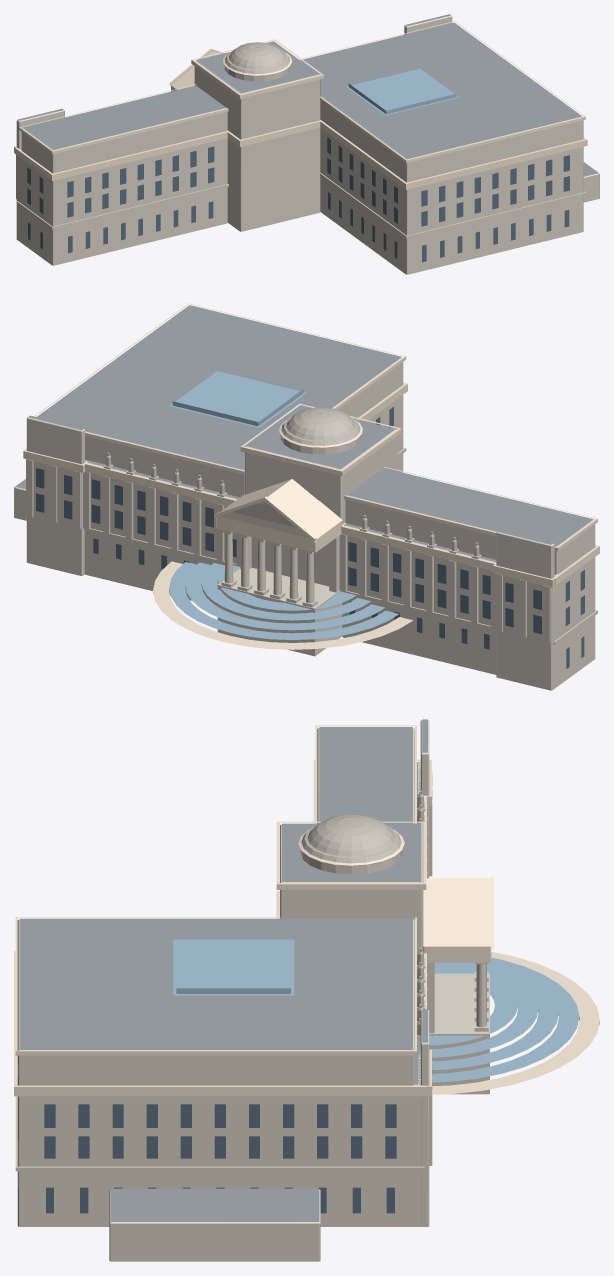
The model's file is nyc-brooklyn-museum.glb.
The picture shows the model from 3 angles, top to bottom: view 1: azimuth 30°, elevation 25°; view 2: azimuth 150°, elevation 25°; view 3: azimuth 270°, elevation 25°; orthographic projection. The views are drawn at different scales.
Visible parts, largest first — view 1: Brooklyn Museum; view 2: Brooklyn Museum; view 3: Brooklyn Museum.
Boxes of the visible parts, <box> form: Brooklyn Museum: <box>14,14,599,274</box>; Brooklyn Museum: <box>14,303,599,690</box>; Brooklyn Museum: <box>14,719,599,1261</box>.
Size of the model in its own units: 166 by 52 by 114.
